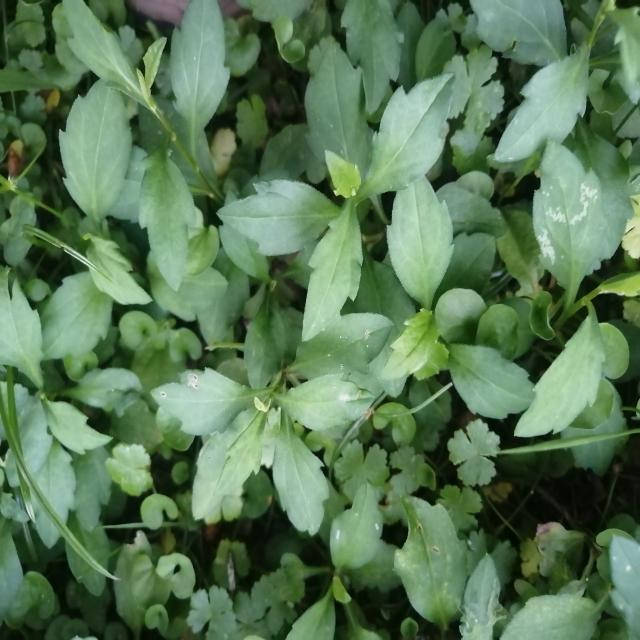Indian aster: (201, 54, 447, 314), (145, 298, 381, 529), (36, 14, 218, 291), (383, 186, 525, 434)
